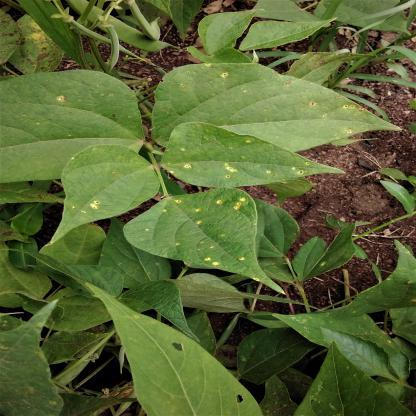Beans_Rust: (149, 62, 380, 148), (0, 71, 145, 177), (160, 122, 342, 188), (128, 194, 258, 268), (56, 148, 158, 228), (0, 300, 59, 416)
